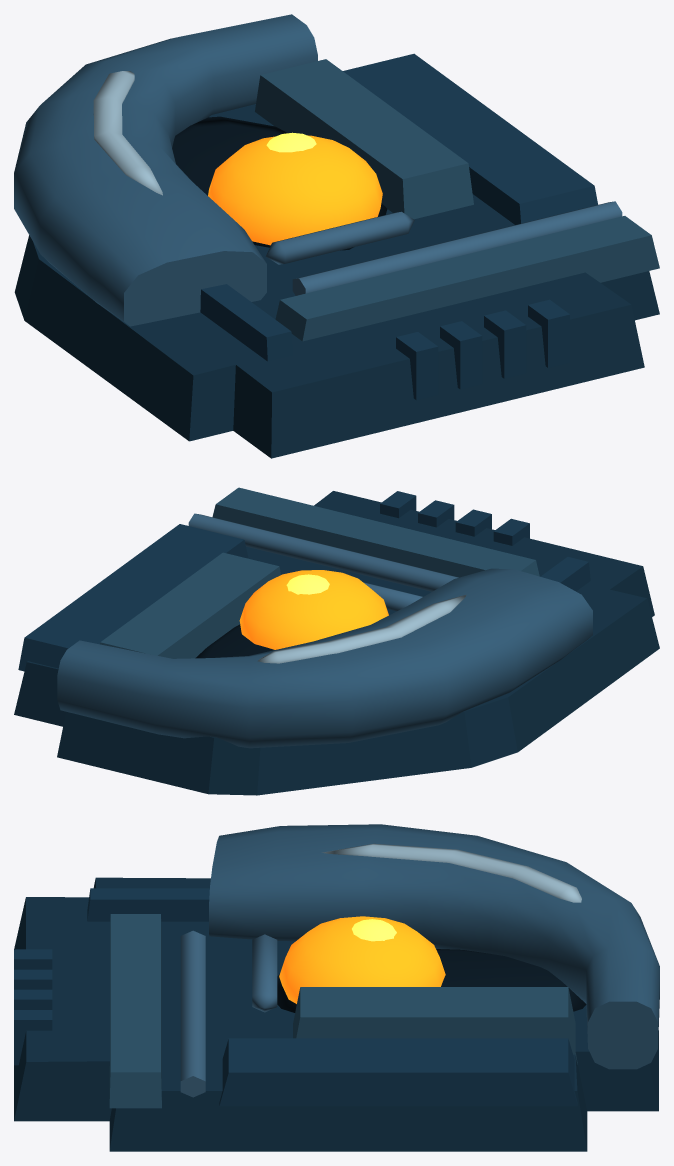
Rendered from newshc-49.glb.
The picture shows the model from 3 angles, top to bottom: view 1: azimuth 30°, elevation 25°; view 2: azimuth 150°, elevation 25°; view 3: azimuth 270°, elevation 25°; orthographic projection. The views are drawn at different scales.
Parts seen in each view (by area): view 1: newshc-49; view 2: newshc-49; view 3: newshc-49.
Part boxes in pixels (<box>): newshc-49: <box>14,14,659,458</box>; newshc-49: <box>14,487,659,795</box>; newshc-49: <box>14,824,659,1151</box>.
Size of the model in its own units: 1.83 by 0.5042 by 2.25.
